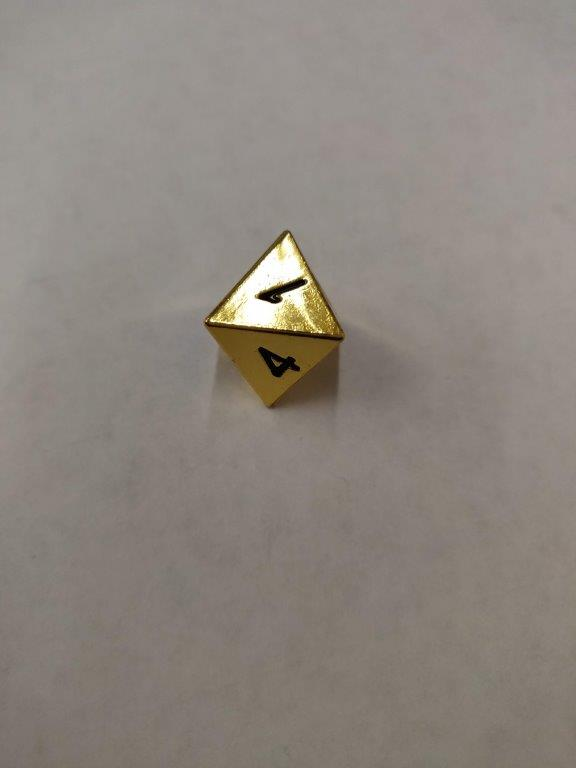d8-1: (202, 230, 344, 412)
